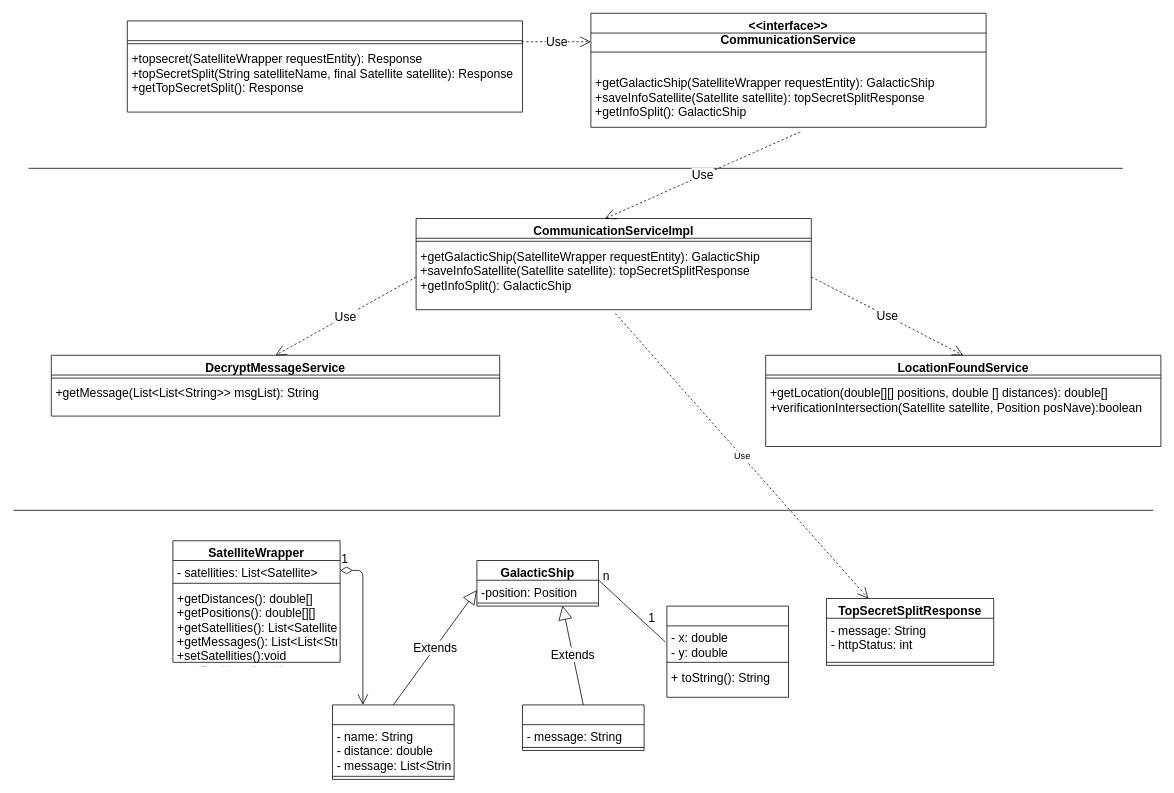
The diagram is 1174 pixels wide and 793 high, and some of its shapes have lost their labels. Here are the shapes that lost their labels. From the top down, the box of each, then its label:
(127, 20, 522, 112): CommunicationController
(666, 605, 788, 697): Position
(332, 704, 454, 779): Satellite
(522, 704, 644, 750): SpaceCraft
